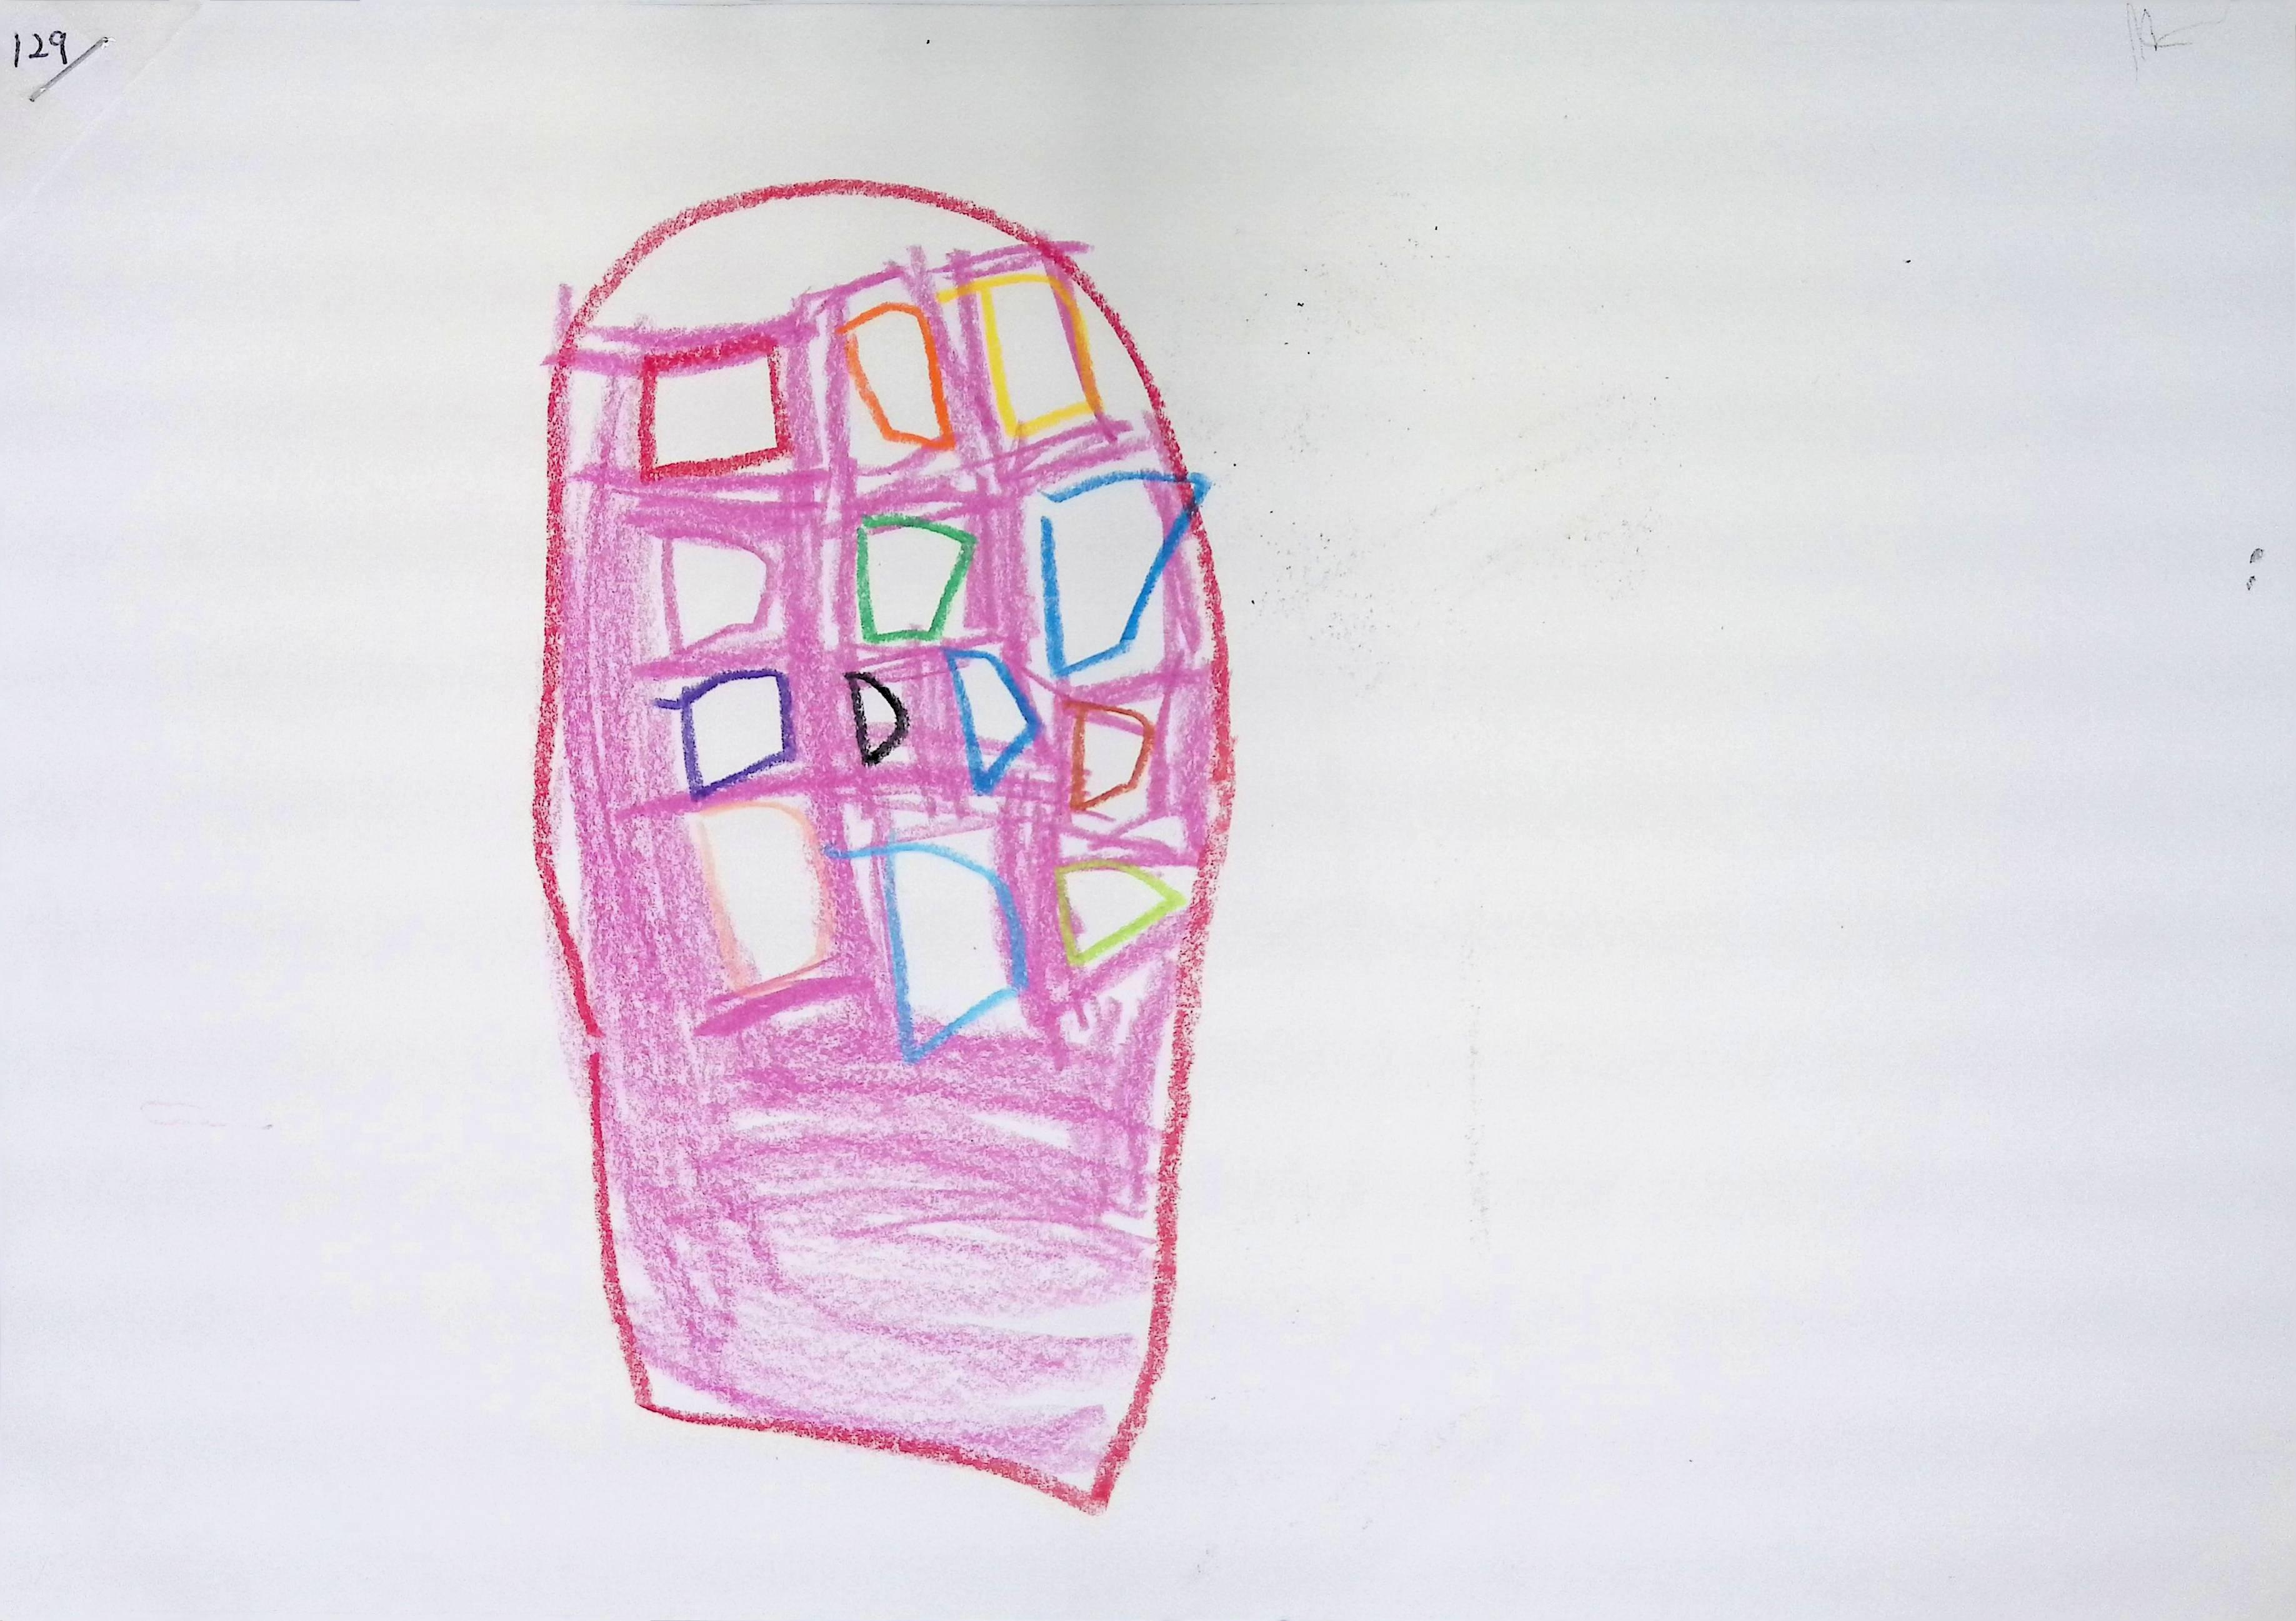house: (535, 179, 1231, 1509)
wall: (535, 179, 1231, 1507)
window: (833, 833, 1026, 1063), (1042, 468, 1210, 677), (686, 802, 831, 989), (942, 270, 1102, 437), (654, 668, 793, 798), (838, 300, 954, 447), (856, 512, 975, 640), (1056, 860, 1194, 967), (945, 647, 1042, 793), (652, 354, 774, 463), (670, 539, 765, 646), (1070, 702, 1156, 810), (844, 668, 910, 765)
